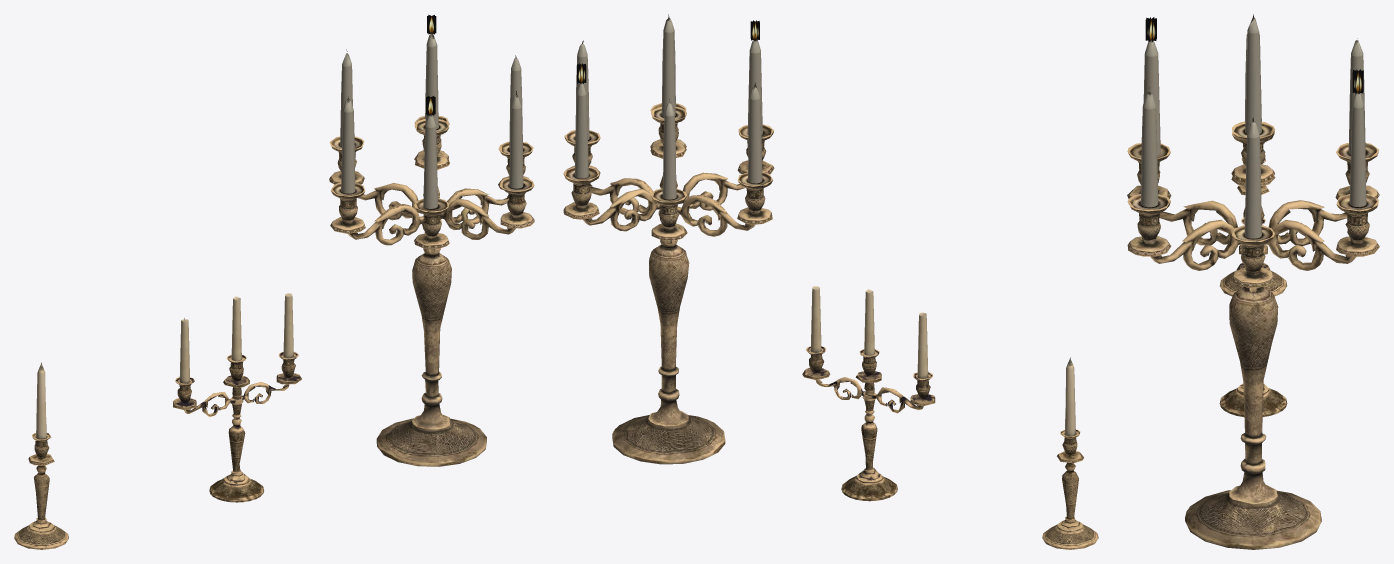
Rendered from brass_candleholders.glb.
3 renders of one model, left to right at view 1: azimuth 30°, elevation 25°; view 2: azimuth 150°, elevation 25°; view 3: azimuth 270°, elevation 25°, orthographic. The views are drawn at different scales.
Parts seen in each view (by area): view 1: brass_candleholder_03, brass_candleholder_02, brass_candleholder_01; view 2: brass_candleholder_03, brass_candleholder_02, brass_candleholder_01; view 3: brass_candleholder_03, brass_candleholder_02, brass_candleholder_01.
Boxes of the visible parts, box(x1,y1,x2,y2) form: brass_candleholder_03: box(329, 14, 534, 466); brass_candleholder_02: box(173, 293, 301, 502); brass_candleholder_01: box(14, 362, 68, 549); brass_candleholder_03: box(563, 14, 774, 464); brass_candleholder_02: box(802, 286, 935, 501); brass_candleholder_01: box(1042, 357, 1098, 549); brass_candleholder_03: box(1127, 14, 1379, 549); brass_candleholder_02: box(1219, 218, 1287, 416); brass_candleholder_01: box(1219, 158, 1287, 296).
Size of the model in its own units: 1.05 by 0.8061 by 0.3644.
5 materials, 5 textured.
